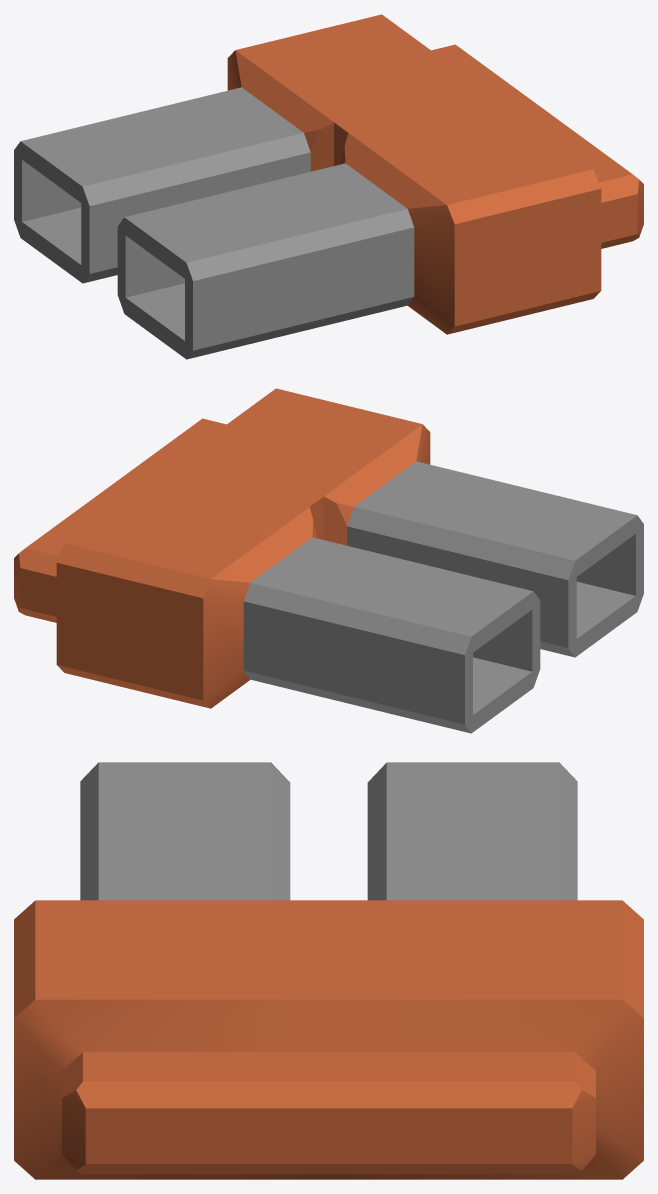
File: chiplet.fbx
3 renders of one model, top to bottom at view 1: azimuth 30°, elevation 25°; view 2: azimuth 150°, elevation 25°; view 3: azimuth 270°, elevation 25°, orthographic. The views are drawn at different scales.
Visible parts, largest first — view 1: Cube.001, Cube; view 2: Cube.001, Cube; view 3: Cube, Cube.001.
Boxes of the visible parts, x1,y1,x2,y2 form: Cube.001: (14,87,414,359); Cube: (227,14,643,334); Cube.001: (243,461,643,733); Cube: (14,388,430,708); Cube: (14,900,643,1179); Cube.001: (80,762,577,900).
Size of the model in its own units: 230 by 63.02 by 200.
